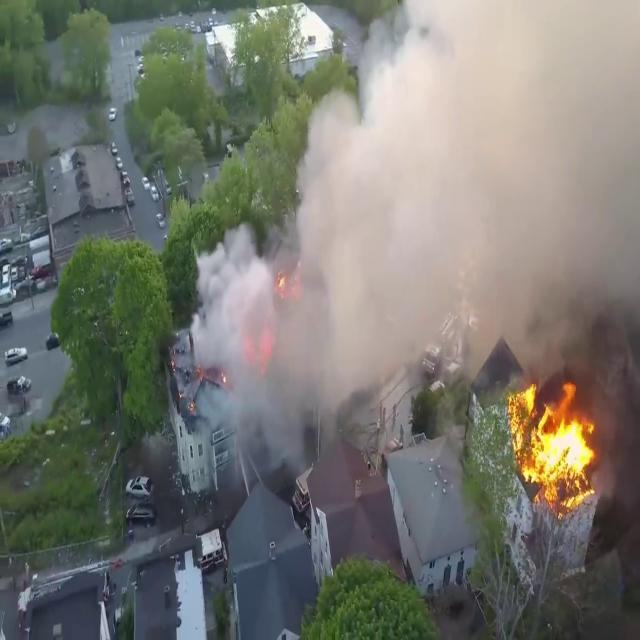Fire: (503, 360, 602, 510)
Smoke: (196, 0, 640, 460)
